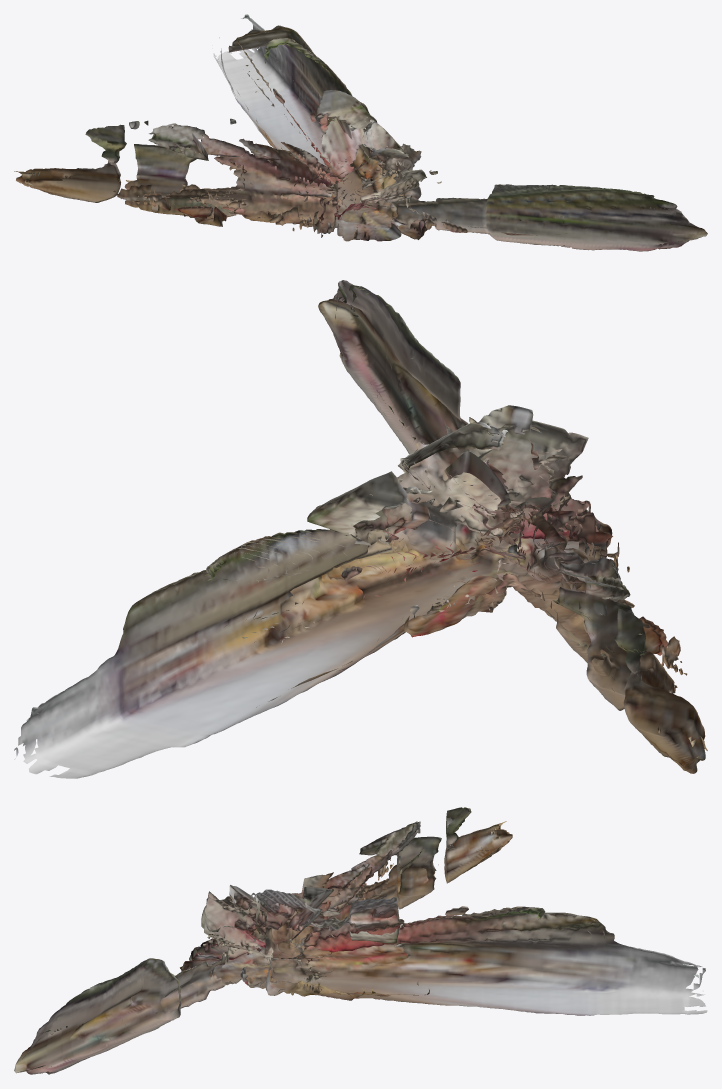
The model's file is collider.glb.
The picture shows the model from 3 angles, top to bottom: view 1: azimuth 30°, elevation 25°; view 2: azimuth 150°, elevation 25°; view 3: azimuth 270°, elevation 25°; orthographic projection. The views are drawn at different scales.
Visible parts, largest first — view 1: world; view 2: world; view 3: world.
Part boxes in pixels (<box>): world: <box>14,14,707,251</box>; world: <box>14,280,707,778</box>; world: <box>14,807,707,1074</box>.
Size of the model in its own units: 51.52 by 9.33 by 62.33.
